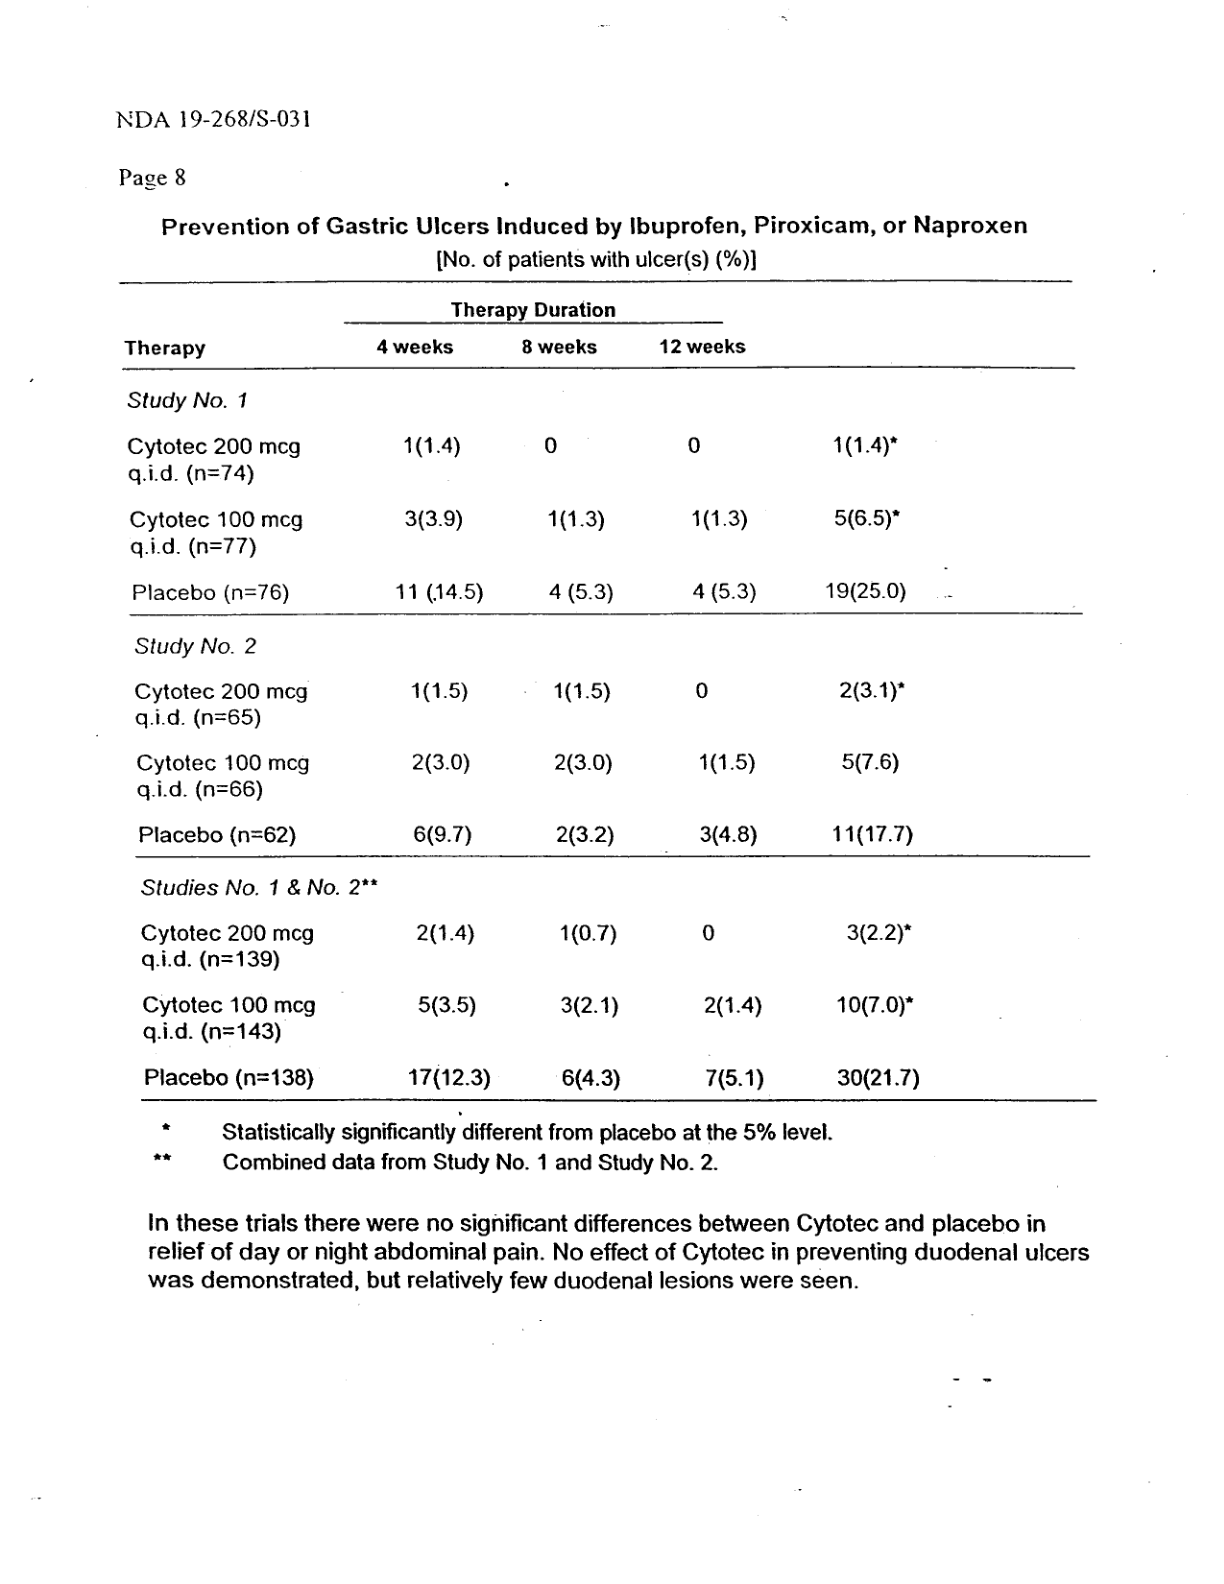partial_lined_merged_cells: (120, 280, 1099, 1104)
